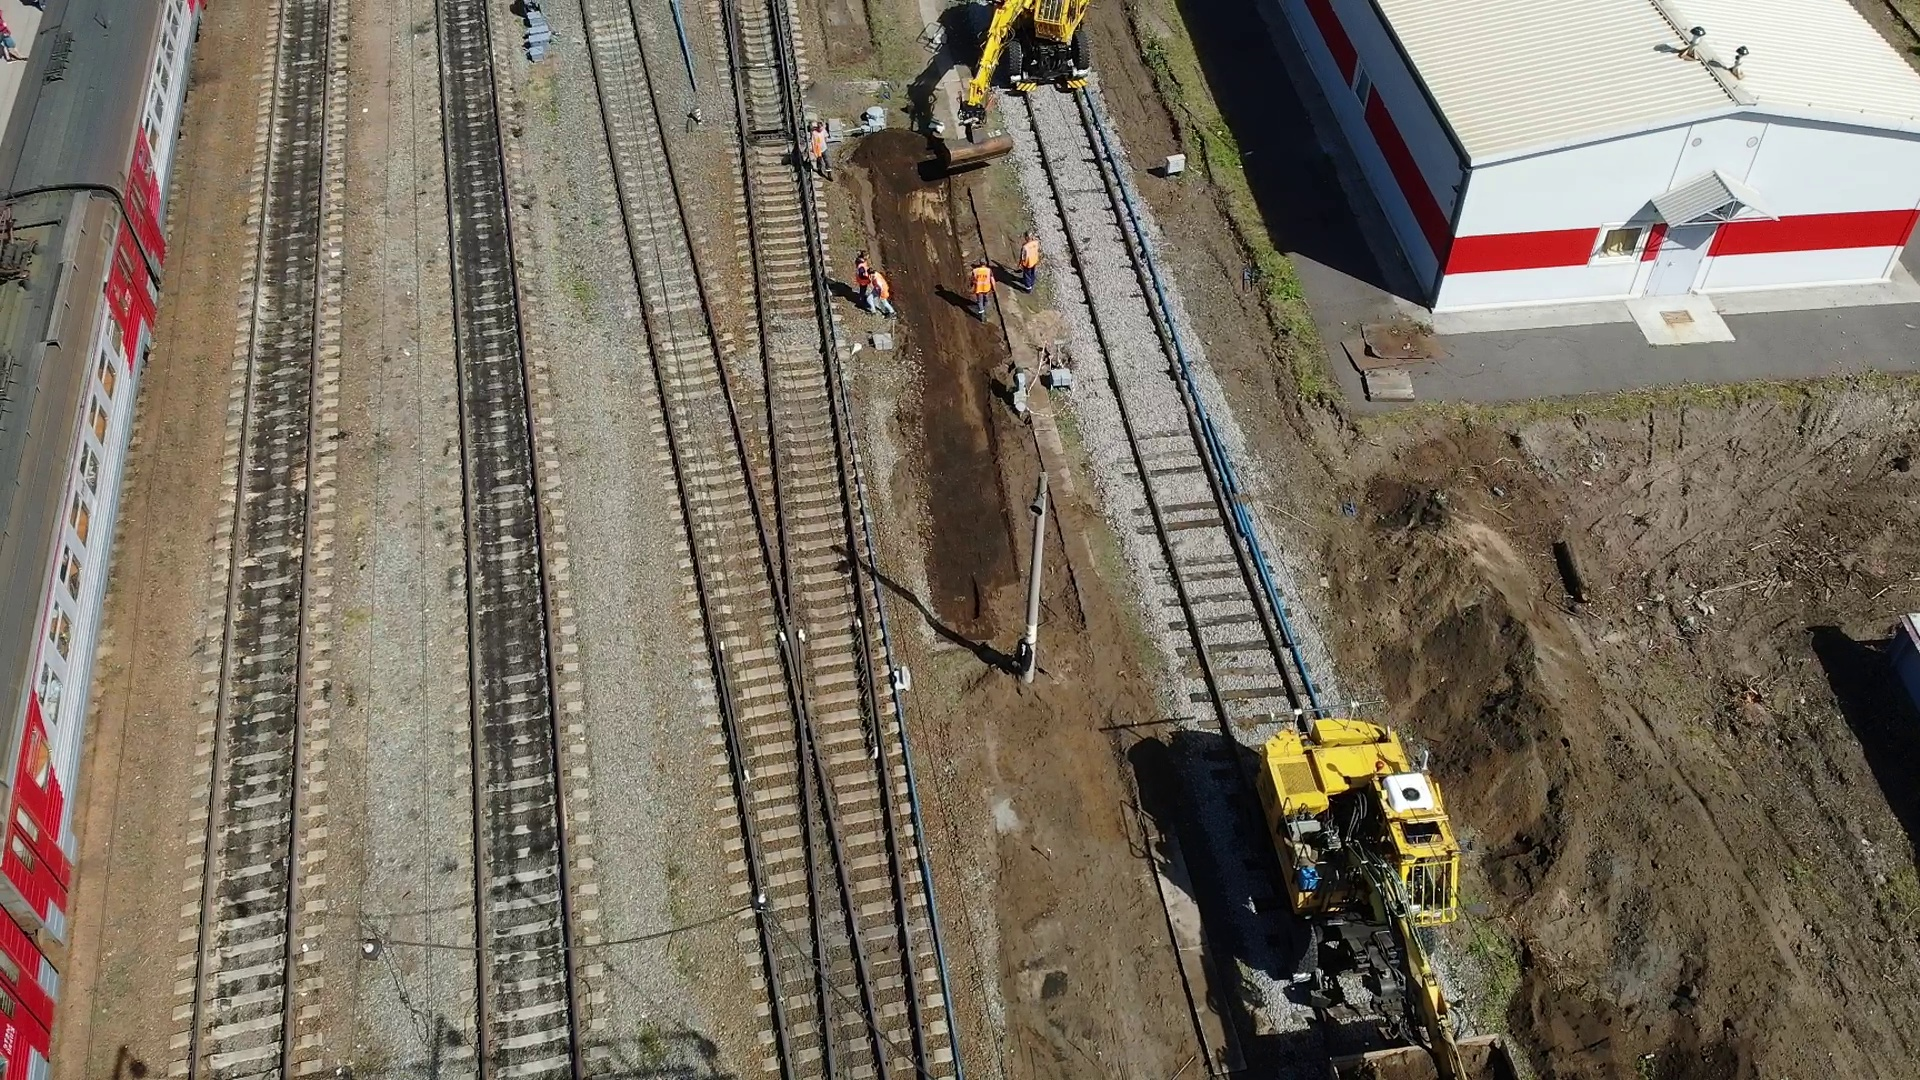kjtv: (1255, 700, 1451, 982), (981, 1, 1096, 96)
